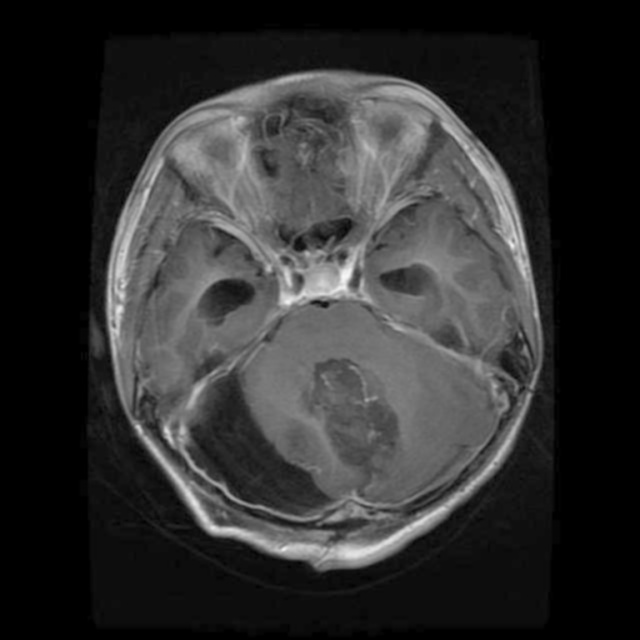pituitary tumor: (312, 356, 402, 479)
